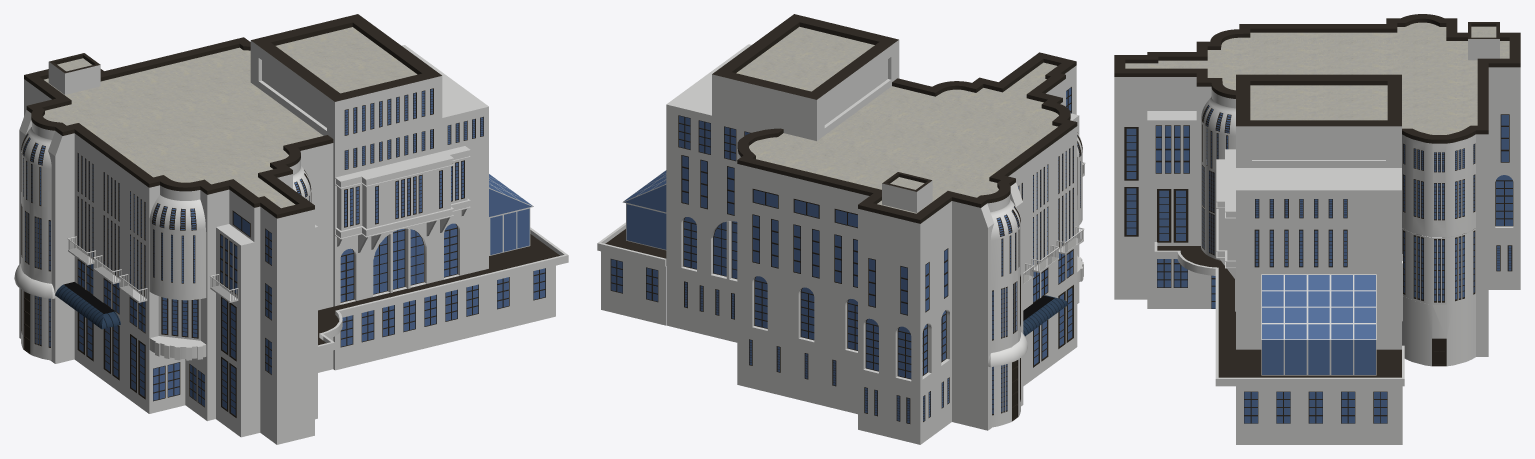
File: Oblasna-Philharmonic.glb
3 renders of one model, left to right at view 1: azimuth 30°, elevation 25°; view 2: azimuth 150°, elevation 25°; view 3: azimuth 270°, elevation 25°, orthographic. The views are drawn at different scales.
Parts seen in each view (by area): view 1: root; view 2: root; view 3: root.
Boxes of the visible parts, x1,y1,x2,y2 form: root: [14, 14, 568, 444]; root: [597, 14, 1085, 444]; root: [1114, 14, 1520, 444].
Bounding box in the file's own units: 49.14 × 28.48 × 39.69.
Materials: 6 (2 with a texture image).
